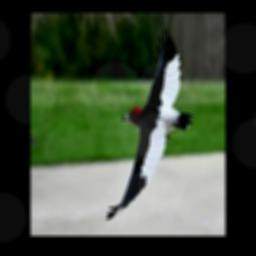Woodpecker: (107, 29, 194, 220)
